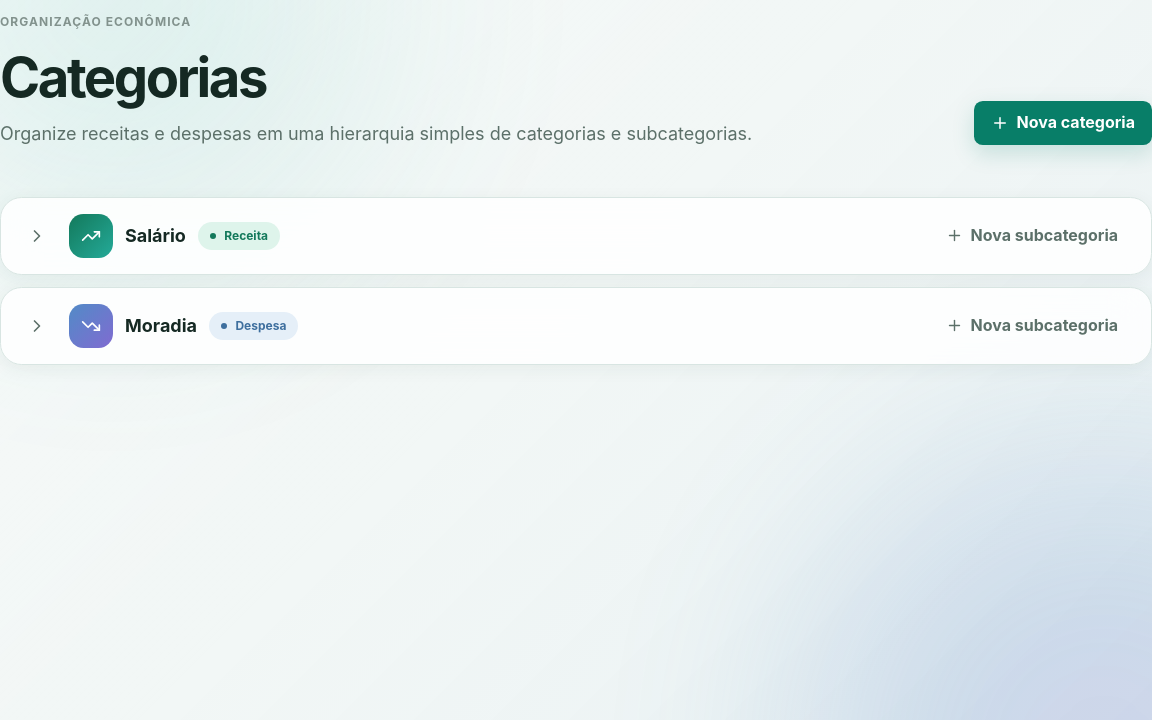
it: CategoriesPage › expande Categoria e carrega Subcategorias
The width and height of the screenshot is (1152, 720).
Check: the heading "Moradia" is shown, box [125, 316, 197, 336]
Click the button named "Expandir Moradia" at x=37, y=326, box [17, 306, 57, 346]
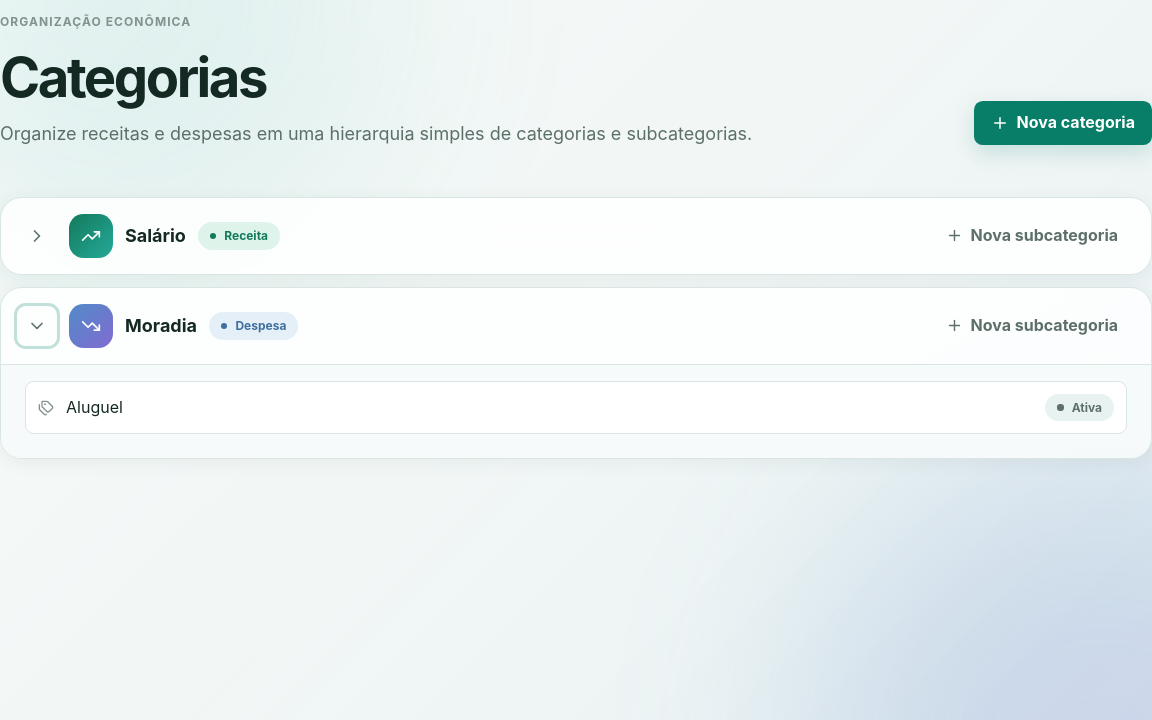
Check: the text "Aluguel" is shown, box [66, 397, 123, 417]
